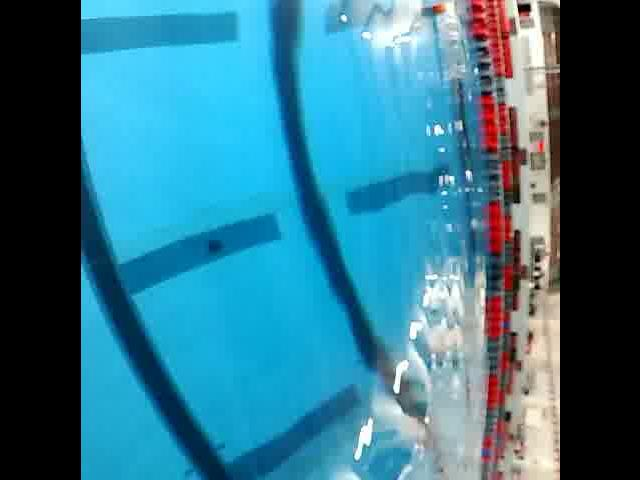Bottle: (420, 0, 473, 85)
